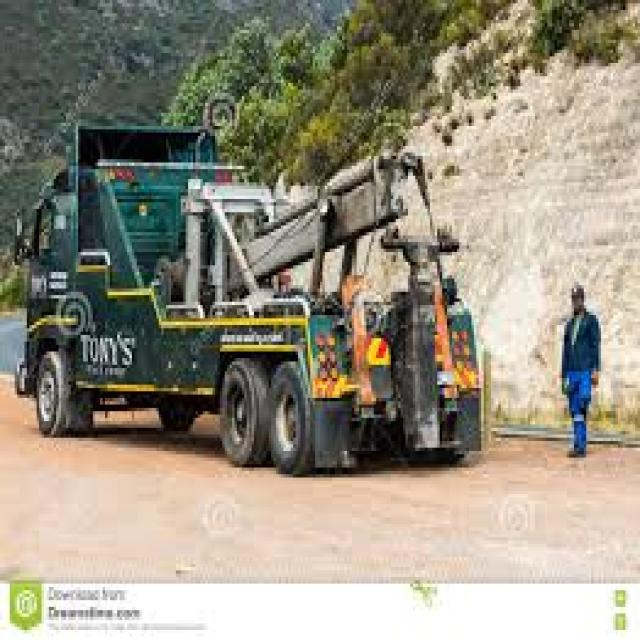Heavy Duty Truck: (15, 110, 491, 478)
Pedestrians: (562, 275, 601, 464)
